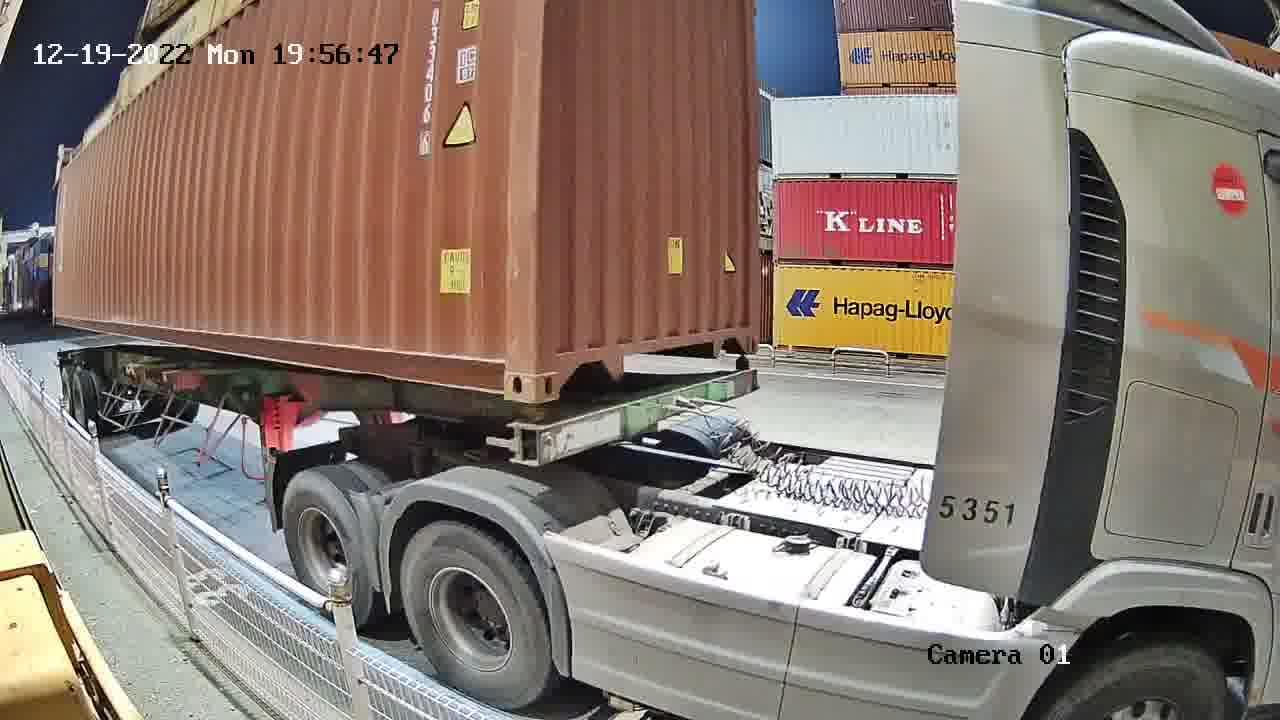Chassis: (515, 369, 756, 465)
Cone: (512, 408, 545, 466), (733, 358, 752, 376)
Hole_L: (533, 332, 591, 403)
Hole_R: (469, 327, 533, 406), (720, 299, 762, 357)
Tire: (401, 528, 547, 706), (283, 474, 369, 616)
